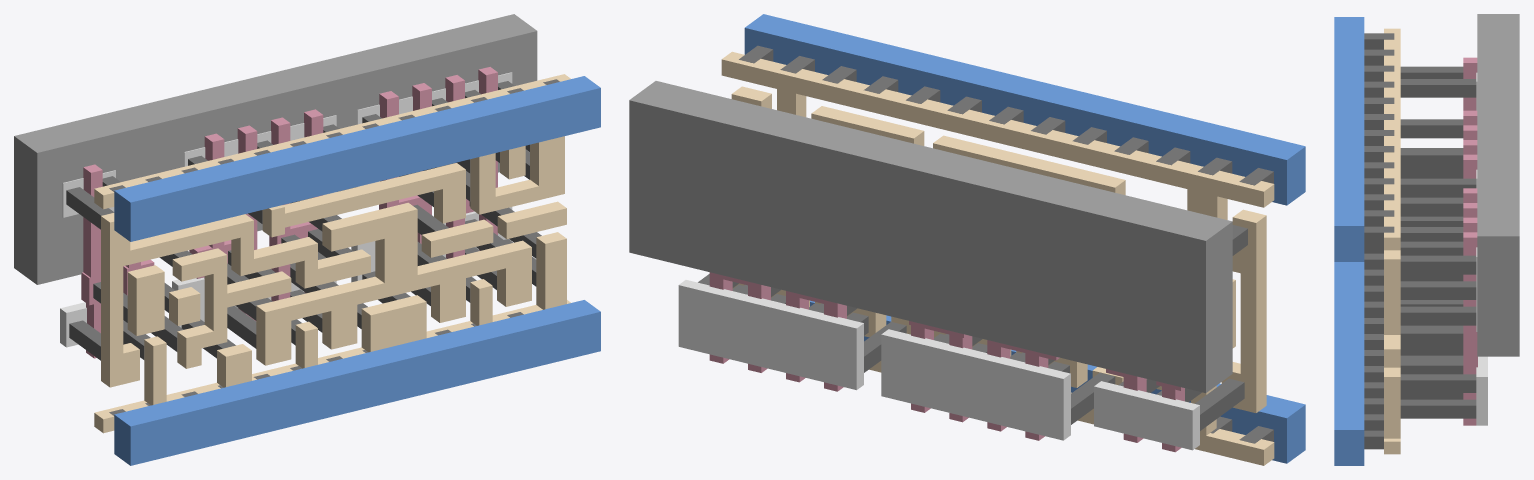
File: sky130_fd_sc_hd__nor4bb_2.gds.gltf
3 renders of one model, left to right at view 1: azimuth 30°, elevation 25°; view 2: azimuth 150°, elevation 25°; view 3: azimuth 270°, elevation 25°, orthographic. The views are drawn at different scales.
Visible parts, largest first — view 1: sky130_fd_sc_hd__nor4bb_2_li1, sky130_fd_sc_hd__nor4bb_2_met1, sky130_fd_sc_hd__nor4bb_2_nwell, sky130_fd_sc_hd__nor4bb_2_licon, sky130_fd_sc_hd__nor4bb_2_poly, sky130_fd_sc_hd__nor4bb_2_diff, sky130_fd_sc_hd__nor4bb_2_mcon; view 2: sky130_fd_sc_hd__nor4bb_2_nwell, sky130_fd_sc_hd__nor4bb_2_diff, sky130_fd_sc_hd__nor4bb_2_li1, sky130_fd_sc_hd__nor4bb_2_met1, sky130_fd_sc_hd__nor4bb_2_mcon, sky130_fd_sc_hd__nor4bb_2_licon, sky130_fd_sc_hd__nor4bb_2_poly; view 3: sky130_fd_sc_hd__nor4bb_2_licon, sky130_fd_sc_hd__nor4bb_2_nwell, sky130_fd_sc_hd__nor4bb_2_met1, sky130_fd_sc_hd__nor4bb_2_mcon, sky130_fd_sc_hd__nor4bb_2_li1, sky130_fd_sc_hd__nor4bb_2_poly, sky130_fd_sc_hd__nor4bb_2_diff.
Part boxes in pixels (left/top/right/bottom): sky130_fd_sc_hd__nor4bb_2_li1: left=94, top=74, right=570, bottom=433; sky130_fd_sc_hd__nor4bb_2_met1: left=114, top=76, right=600, bottom=465; sky130_fd_sc_hd__nor4bb_2_nwell: left=14, top=14, right=537, bottom=284; sky130_fd_sc_hd__nor4bb_2_licon: left=66, top=81, right=541, bottom=360; sky130_fd_sc_hd__nor4bb_2_poly: left=81, top=67, right=497, bottom=358; sky130_fd_sc_hd__nor4bb_2_diff: left=60, top=72, right=512, bottom=347; sky130_fd_sc_hd__nor4bb_2_mcon: left=109, top=79, right=559, bottom=415; sky130_fd_sc_hd__nor4bb_2_nwell: left=629, top=81, right=1232, bottom=393; sky130_fd_sc_hd__nor4bb_2_diff: left=678, top=280, right=1199, bottom=450; sky130_fd_sc_hd__nor4bb_2_li1: left=721, top=51, right=1274, bottom=465; sky130_fd_sc_hd__nor4bb_2_met1: left=744, top=14, right=1305, bottom=463; sky130_fd_sc_hd__nor4bb_2_mcon: left=739, top=45, right=1273, bottom=443; sky130_fd_sc_hd__nor4bb_2_licon: left=698, top=225, right=1247, bottom=430; sky130_fd_sc_hd__nor4bb_2_poly: left=709, top=272, right=1184, bottom=452; sky130_fd_sc_hd__nor4bb_2_licon: left=1400, top=66, right=1476, bottom=418; sky130_fd_sc_hd__nor4bb_2_nwell: left=1477, top=14, right=1519, bottom=356; sky130_fd_sc_hd__nor4bb_2_met1: left=1334, top=17, right=1364, bottom=465; sky130_fd_sc_hd__nor4bb_2_mcon: left=1364, top=33, right=1394, bottom=449; sky130_fd_sc_hd__nor4bb_2_li1: left=1384, top=28, right=1400, bottom=454; sky130_fd_sc_hd__nor4bb_2_poly: left=1463, top=57, right=1477, bottom=425; sky130_fd_sc_hd__nor4bb_2_diff: left=1476, top=72, right=1487, bottom=425.
Size of the model in its own units: 6.36 by 3.2 by 2.24.
